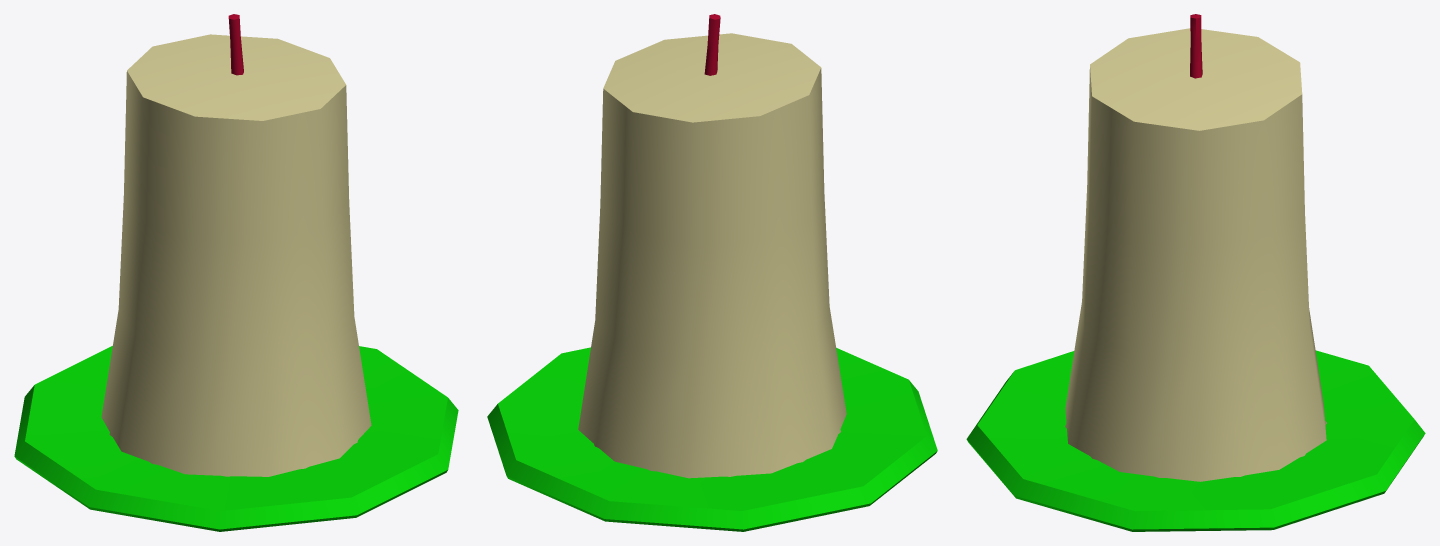
File: Vela.fbx
3 renders of one model, left to right at view 1: azimuth 30°, elevation 25°; view 2: azimuth 150°, elevation 25°; view 3: azimuth 270°, elevation 25°, orthographic.
Parts seen in each view (by area): view 1: Vela; view 2: Vela; view 3: Vela.
Boxes of the visible parts, x1,y1,x2,y2 form: Vela: (14, 14, 458, 531); Vela: (487, 14, 937, 531); Vela: (966, 14, 1425, 531).
Bounding box in the file's own units: 16.27 × 17.47 × 16.93.
